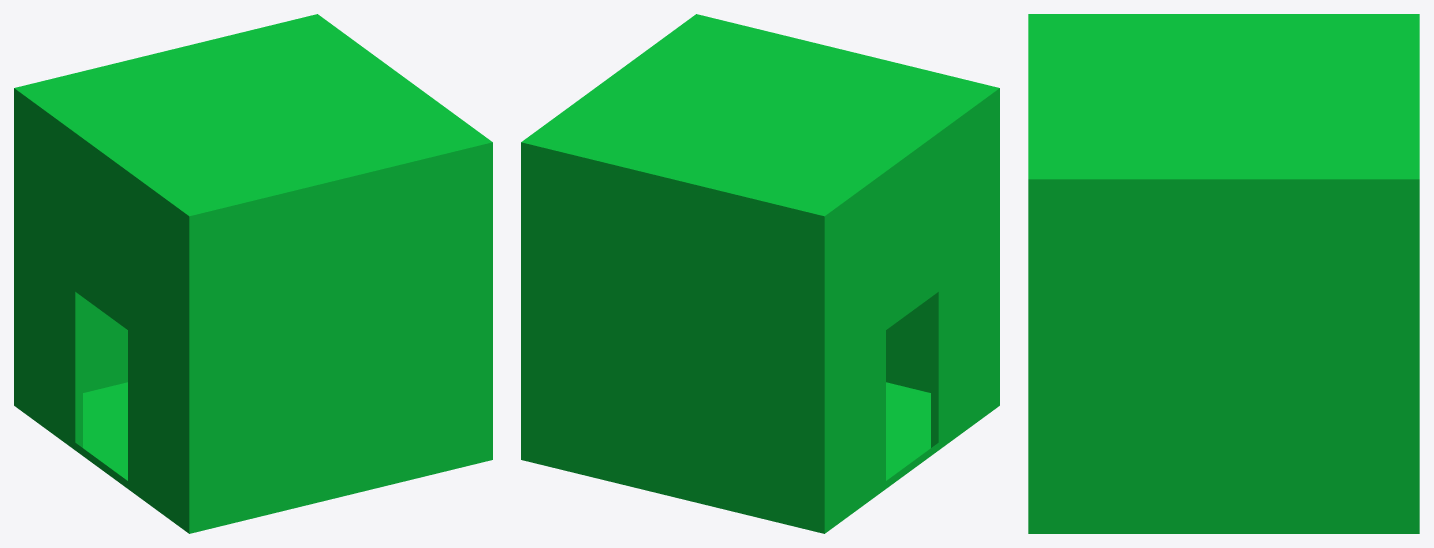
File: Exit.obj
3 views of the same model, side by side, from view 1: azimuth 30°, elevation 25°; view 2: azimuth 150°, elevation 25°; view 3: azimuth 270°, elevation 25° (orthographic). The views are drawn at different scales.
Visible parts, largest first — view 1: Exit; view 2: Exit; view 3: Exit.
Boxes of the visible parts, x1,y1,x2,y2 form: Exit: (14,14,492,533); Exit: (521,14,999,533); Exit: (1028,14,1419,533).
Size of the model in its own units: 4 by 4 by 4.
Materials: 1 (1 with a texture image).
